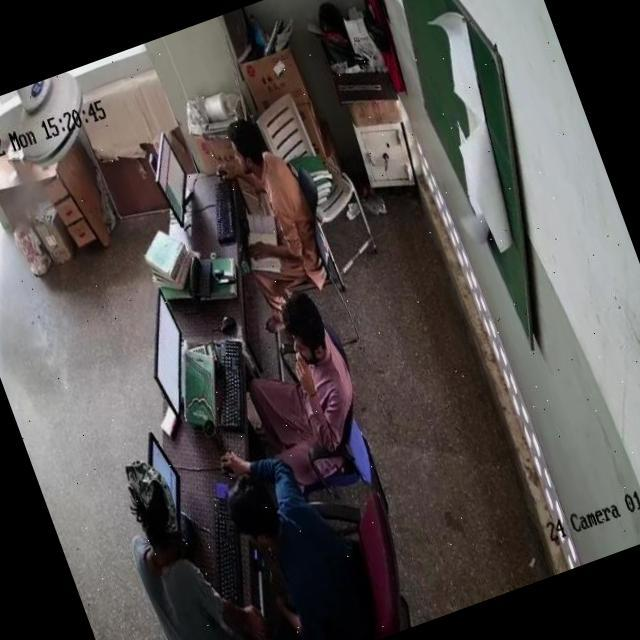person: (216, 442, 372, 640), (236, 292, 380, 487), (104, 453, 241, 640), (212, 112, 328, 282)
